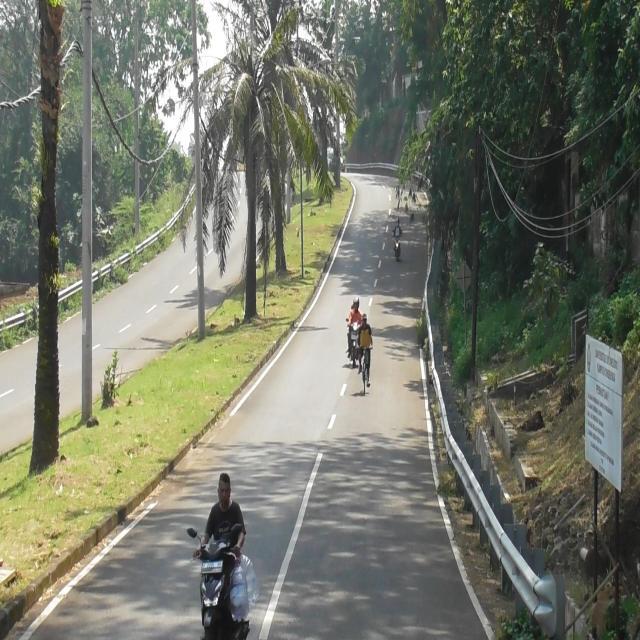motorcycle: (184, 521, 250, 639), (345, 318, 362, 367), (393, 234, 402, 260)
person: (193, 474, 246, 554), (348, 300, 365, 329), (392, 217, 404, 236)
rider_region: (187, 467, 254, 640), (344, 293, 367, 368), (391, 216, 403, 262)
